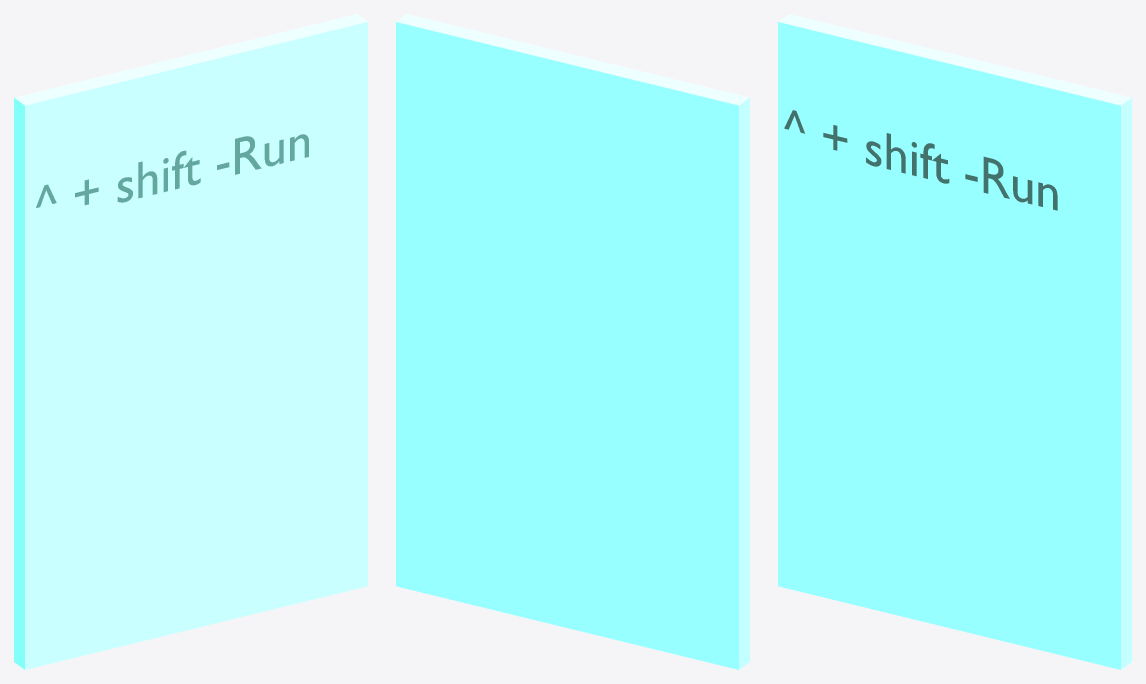
The picture shows the model from 3 angles, left to right: view 1: azimuth 30°, elevation 25°; view 2: azimuth 150°, elevation 25°; view 3: azimuth 330°, elevation 25°; orthographic projection.
Visible parts, largest first — view 1: Cube, hello; view 2: Cube; view 3: Cube, hello.
Part boxes in pixels (x1,y1,x2,y2): Cube: (14, 14, 367, 669); hello: (36, 134, 308, 207); Cube: (396, 14, 749, 669); Cube: (778, 14, 1131, 669); hello: (784, 110, 1057, 210).
Bounding box in the file's own units: 3.06 × 4.81 × 0.2042.
